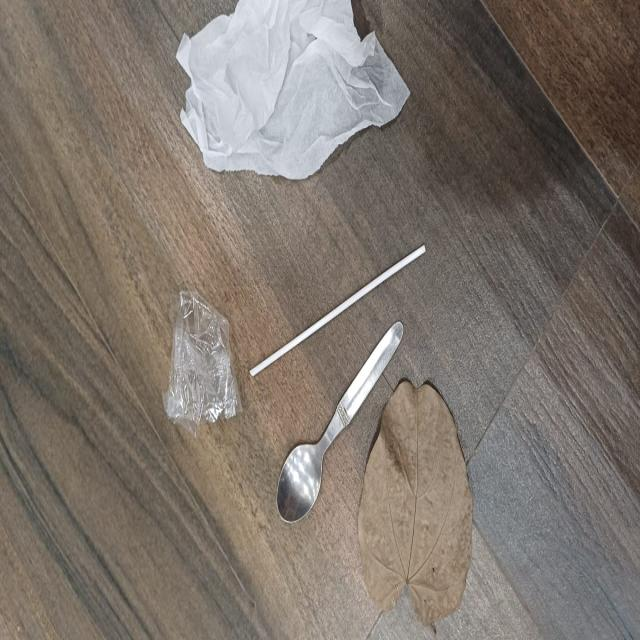Leaf-Bio: (356, 371, 478, 634)
Plastic-NonBio: (162, 286, 245, 439)
Steel-NonBio: (278, 314, 400, 522)
Straw-NonBio: (235, 236, 436, 395)
Tissue Paper-Bio: (173, 0, 409, 184)
